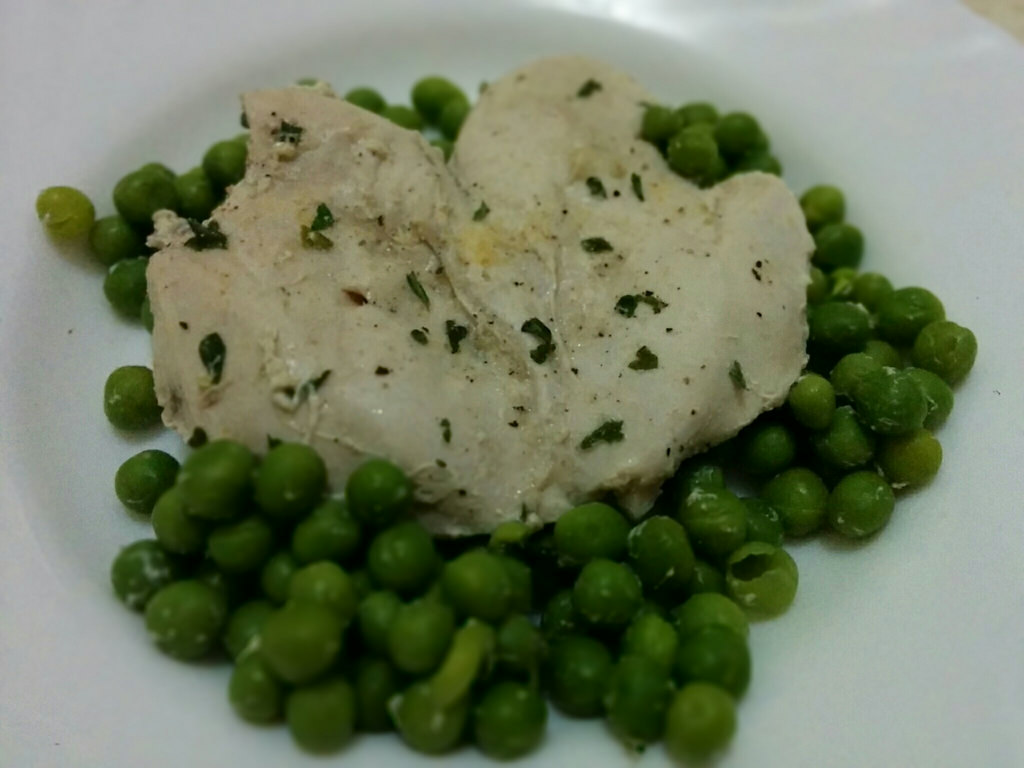boiled peas: (151, 460, 506, 725), (521, 522, 745, 685)
